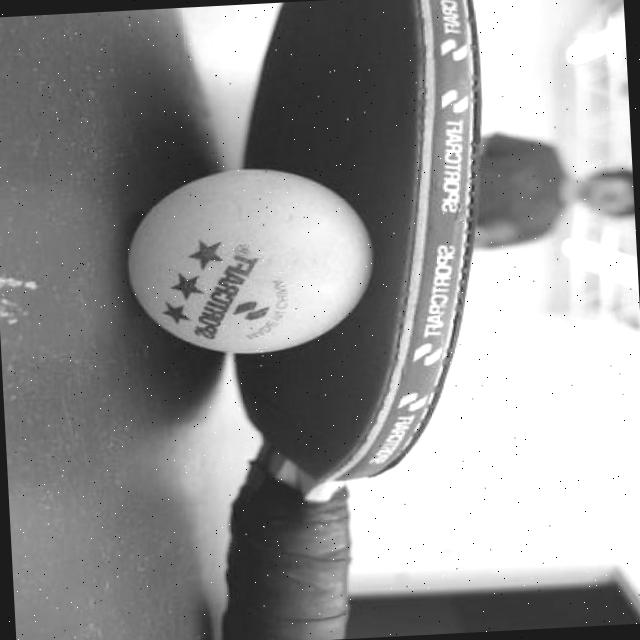ping-pong-ball: (114, 158, 382, 363)
